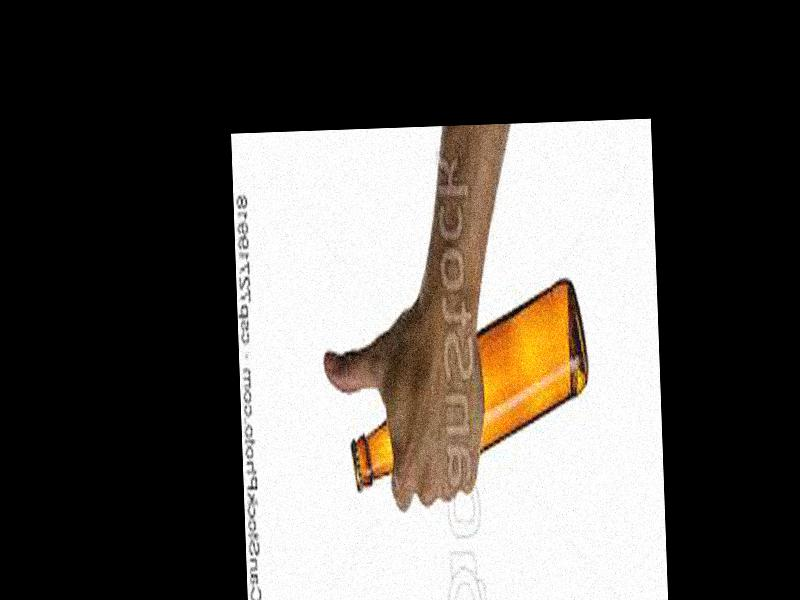Beer: (346, 277, 591, 488)
